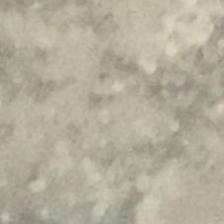Non_Crack: (14, 10, 201, 212)
